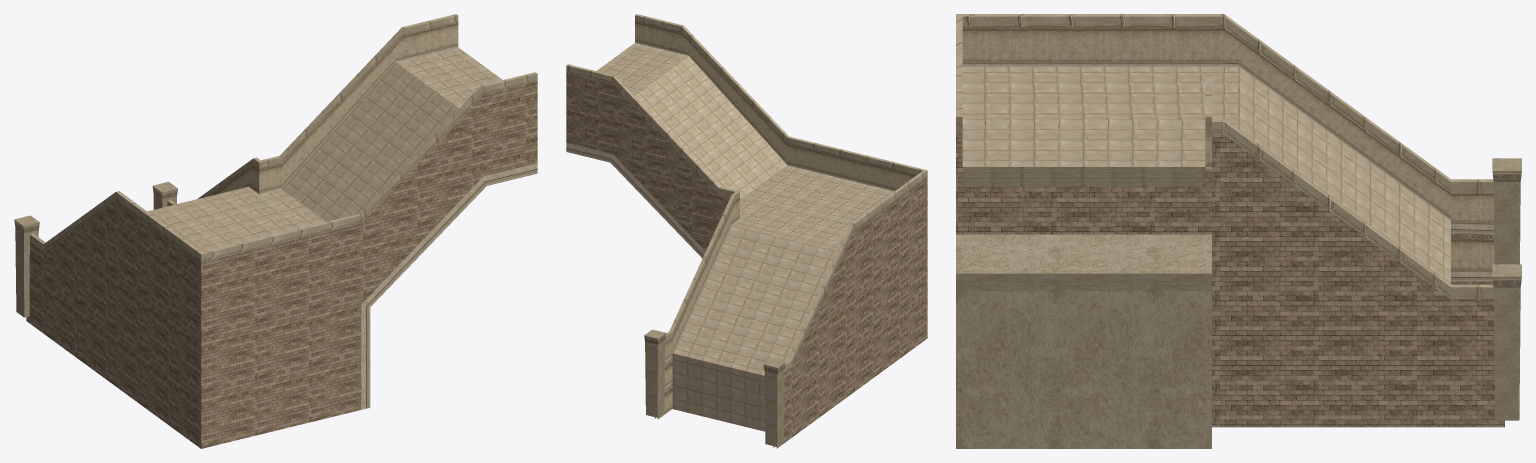
File: thm_nboo_imprv_bridge_stairs_s03_l1.fbx
3 renders of one model, left to right at view 1: azimuth 30°, elevation 25°; view 2: azimuth 150°, elevation 25°; view 3: azimuth 270°, elevation 25°, orthographic. The views are drawn at different scales.
Parts seen in each view (by area): view 1: mesh_node; view 2: mesh_node; view 3: mesh_node.
Part boxes in pixels (left/top/right/bottom): mesh_node: left=14, top=14, right=537, bottom=448; mesh_node: left=566, top=14, right=927, bottom=448; mesh_node: left=956, top=14, right=1521, bottom=448.
Bounding box in the file's own units: 12.64 × 10.32 × 11.5.
4 materials, 4 textured.
